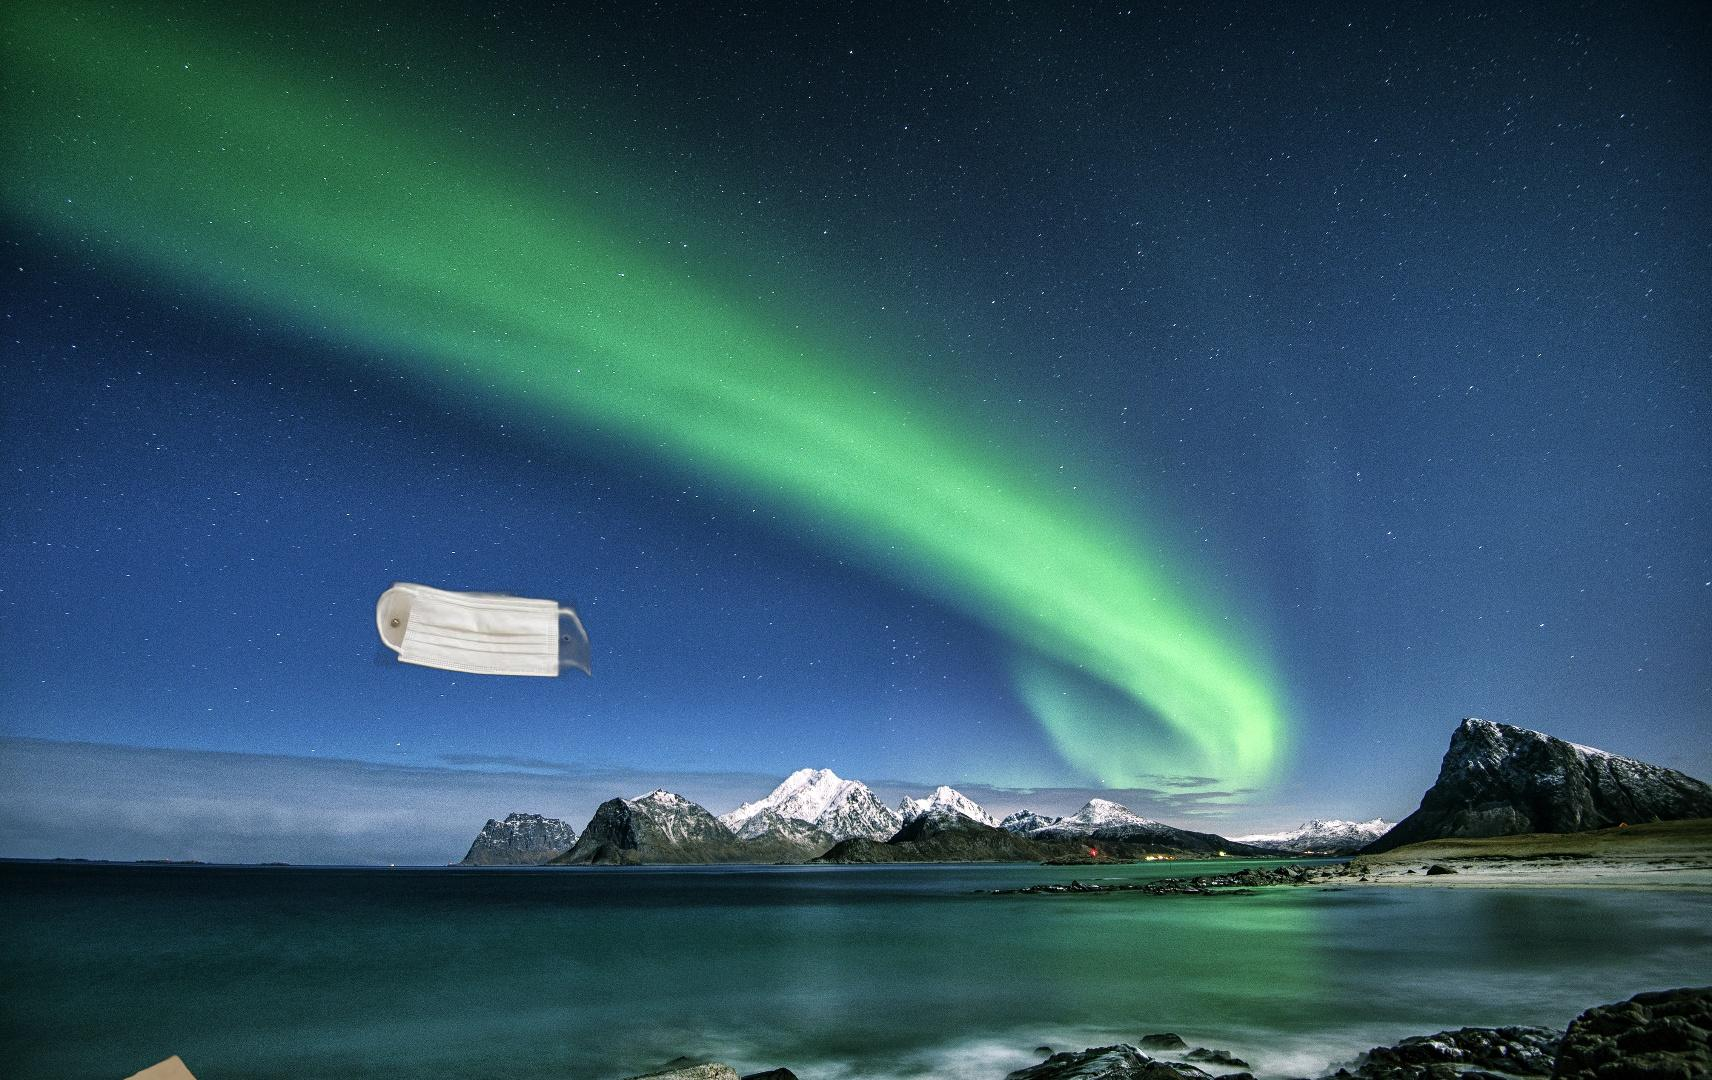paper-bag: (55, 1051, 226, 1080)
trash: (371, 574, 591, 686)
